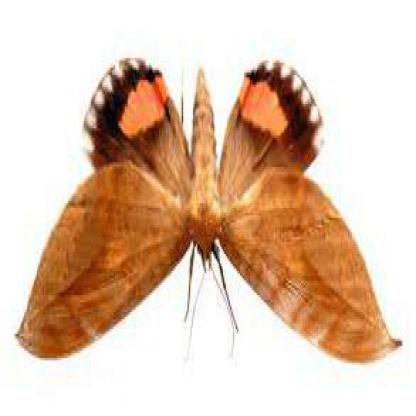fruit sucking moth: (14, 59, 402, 366)
